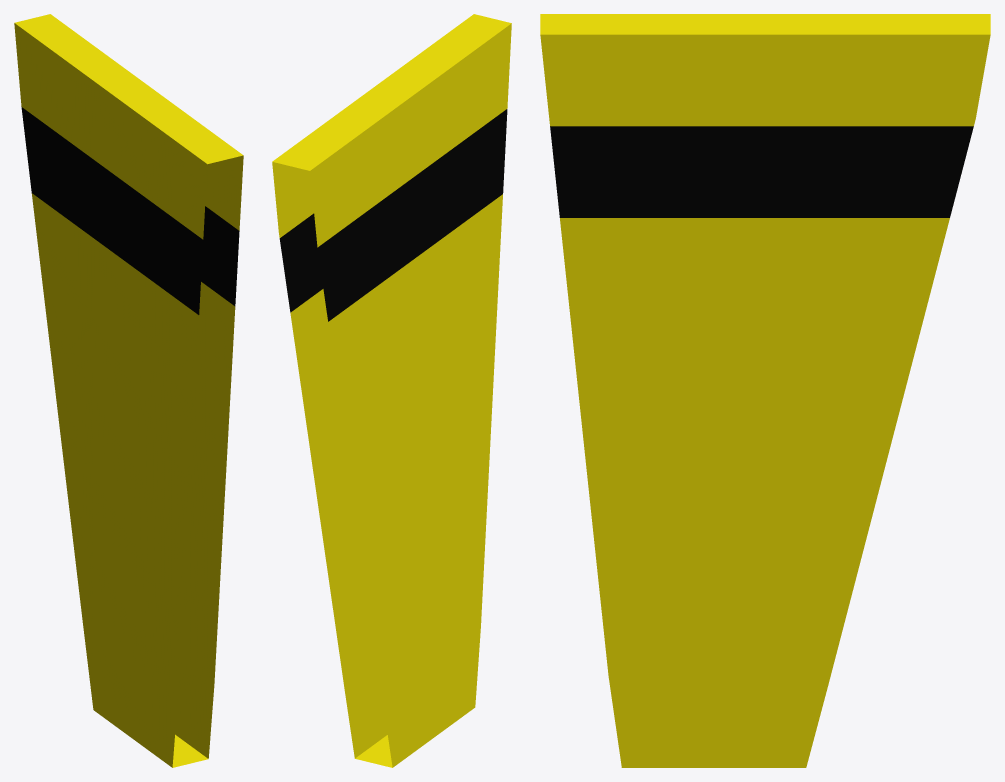
File: кусок 4.fbx
3 views of the same model, side by side, from view 1: azimuth 30°, elevation 25°; view 2: azimuth 150°, elevation 25°; view 3: azimuth 270°, elevation 25° (orthographic). The views are drawn at different scales.
Visible parts, largest first — view 1: Pass_PassBase_Mat_0.012, Pass_PassBlack_Mat_0.008; view 2: Pass_PassBase_Mat_0.012, Pass_PassBlack_Mat_0.008; view 3: Pass_PassBase_Mat_0.012, Pass_PassBlack_Mat_0.008.
Part boxes in pixels (left/top/right/bottom): Pass_PassBase_Mat_0.012: left=14, top=14, right=243, bottom=767; Pass_PassBlack_Mat_0.008: left=21, top=107, right=239, bottom=314; Pass_PassBase_Mat_0.012: left=272, top=14, right=511, bottom=767; Pass_PassBlack_Mat_0.008: left=279, top=109, right=507, bottom=321; Pass_PassBase_Mat_0.012: left=540, top=14, right=990, bottom=767; Pass_PassBlack_Mat_0.008: left=550, top=126, right=973, bottom=217.
Bounding box in the file's own units: 0.0666 × 1.11 × 0.6159.
